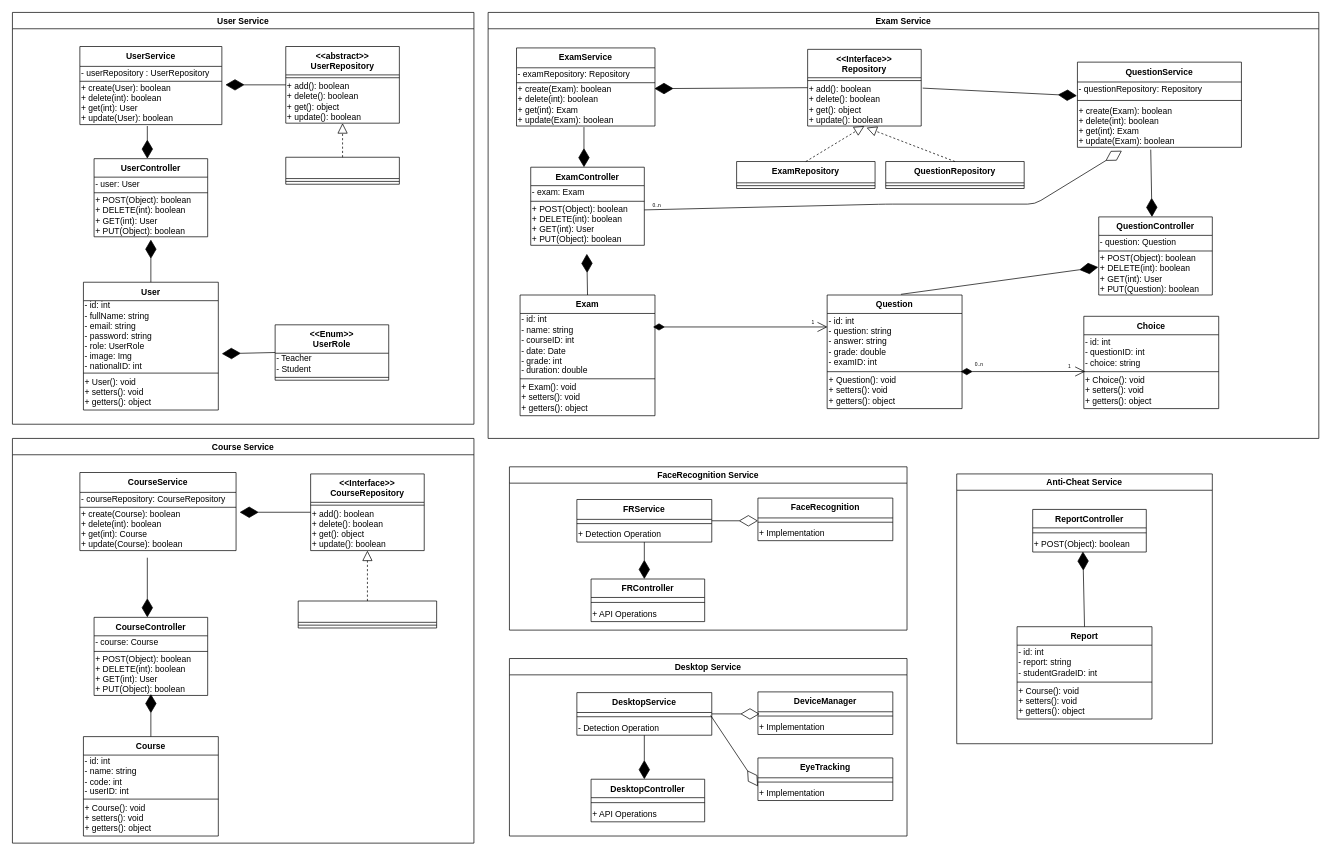
Some shapes in this 1331 by 856 pixel diagram are drawn without their labels. The centre of each missing label's shape, as x and y in pixels:
"MySQLCourseRepository" belongs at point (367, 614).
"MySQLUserRepository" belongs at point (342, 170).
